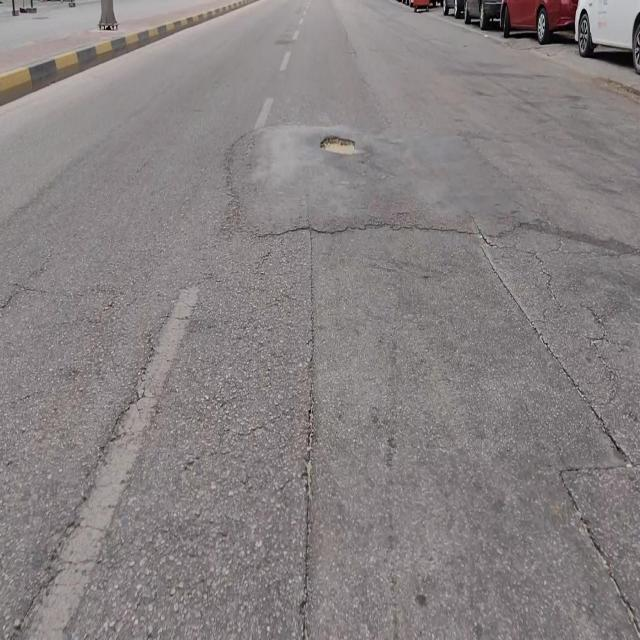Potholes: (321, 134, 358, 159)
